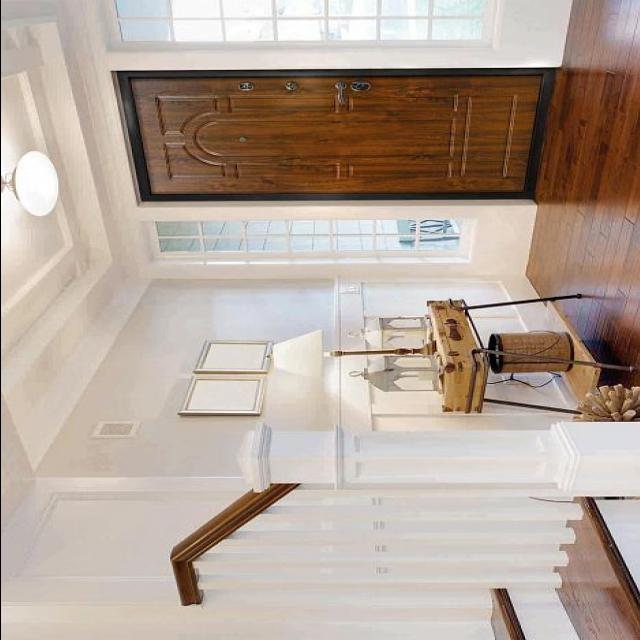close: (143, 70, 534, 200)
